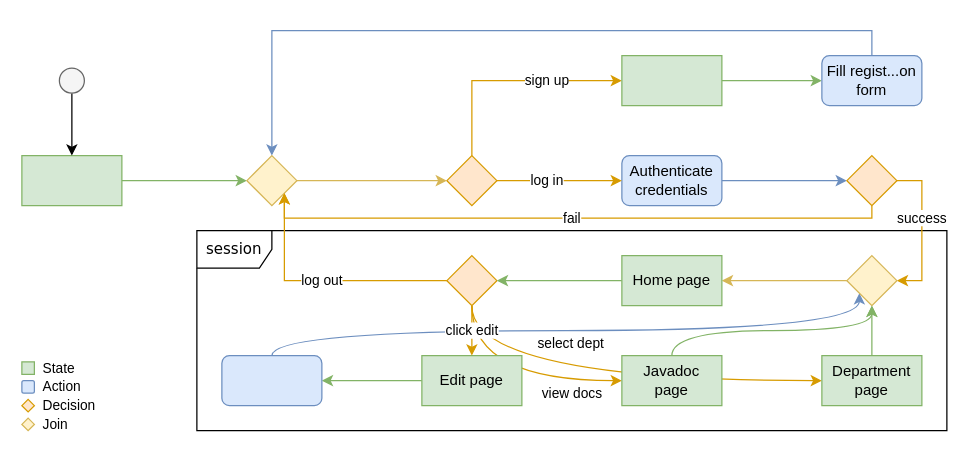
The diagram is 969 pixels wide and 454 high, and some of its shapes have lost their labels. Each missing label, with the centre of its shape:
"Create account page" goes at [671,80].
"Fill edit form" goes at [271,380].
"Welcome page" goes at [71,180].
